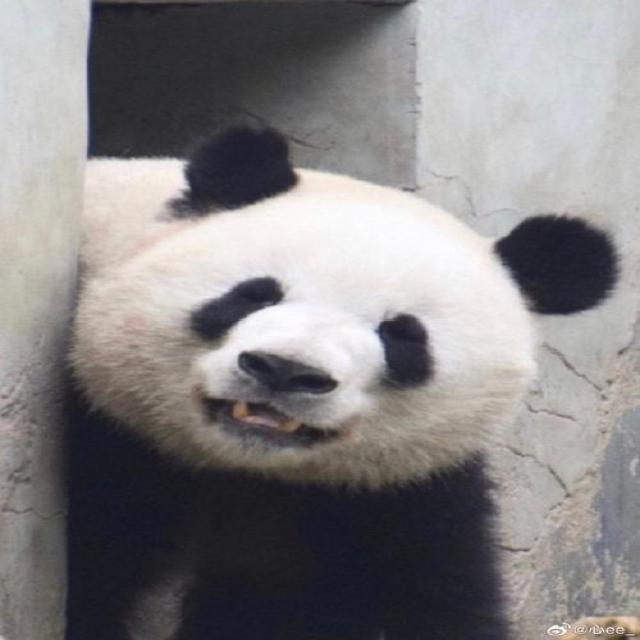panda: (33, 133, 601, 623)
